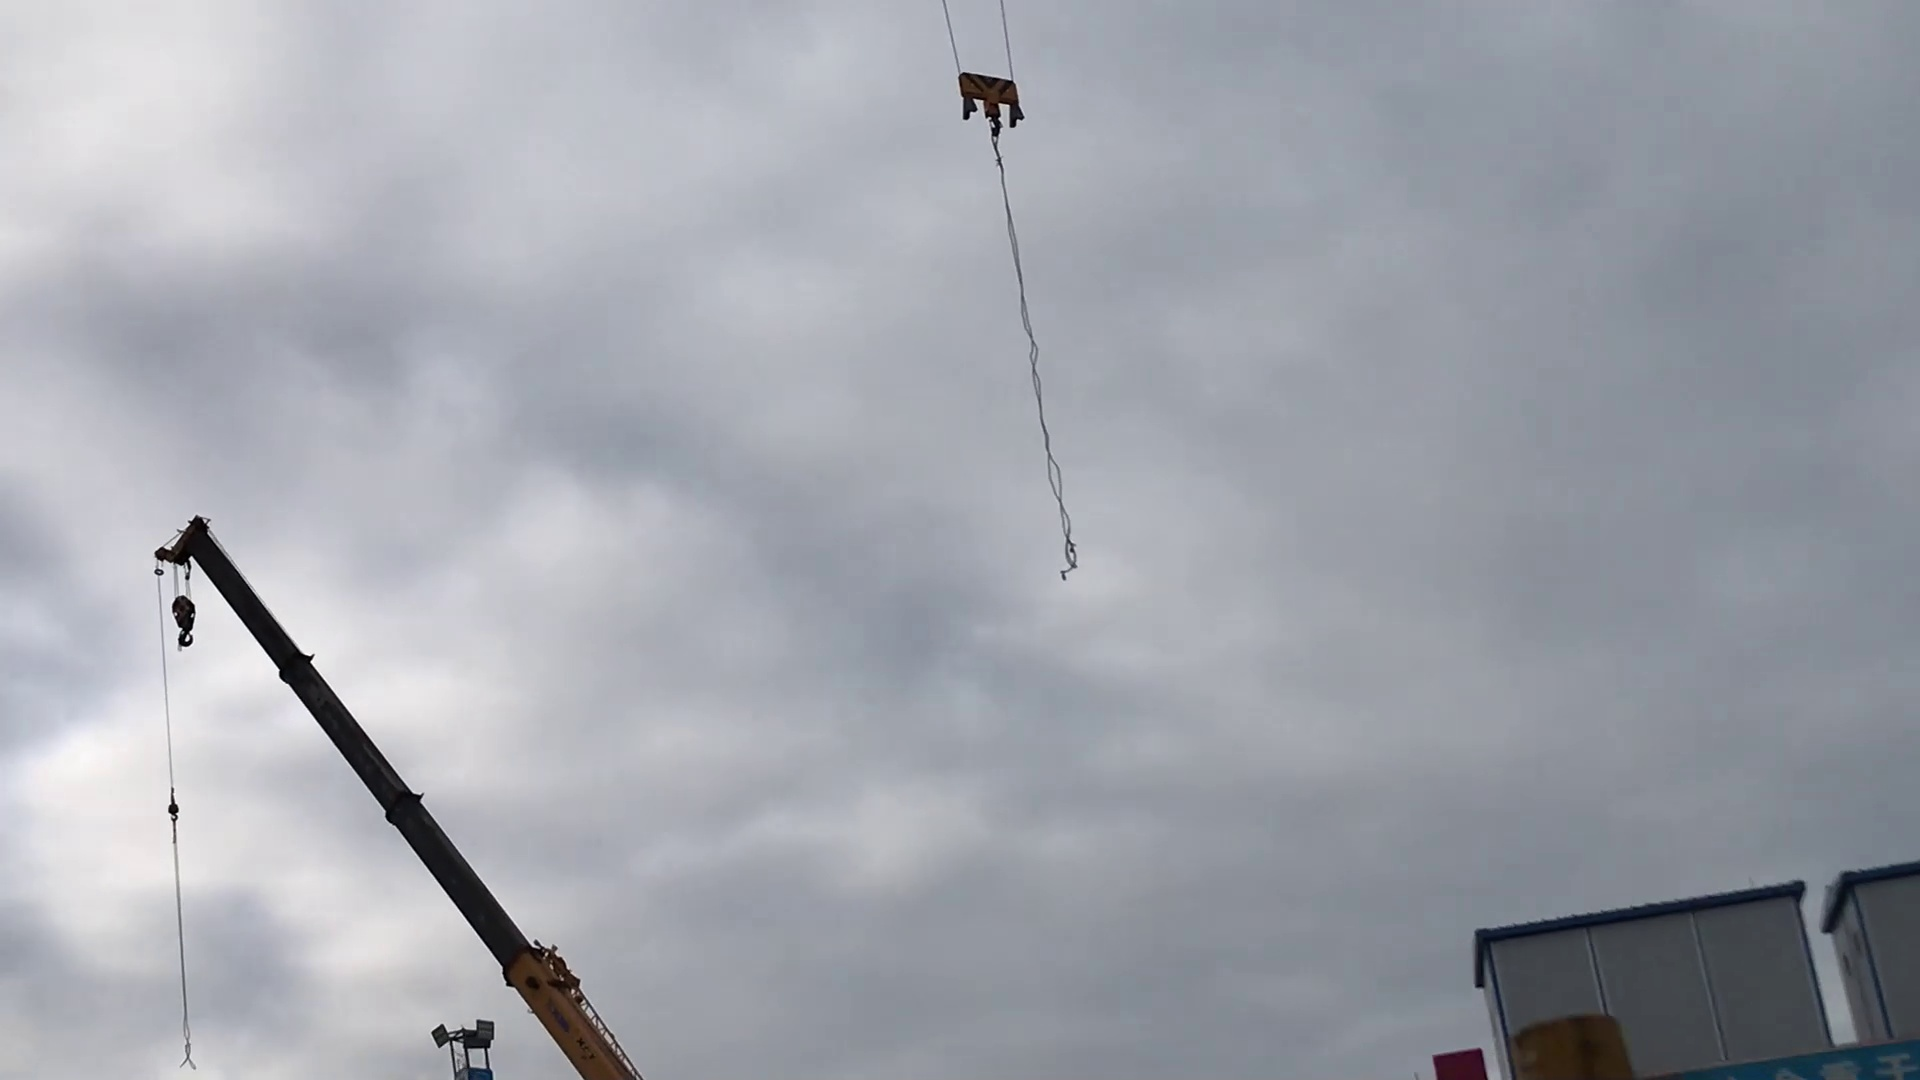hook: (948, 54, 1044, 156), (161, 593, 208, 669)
